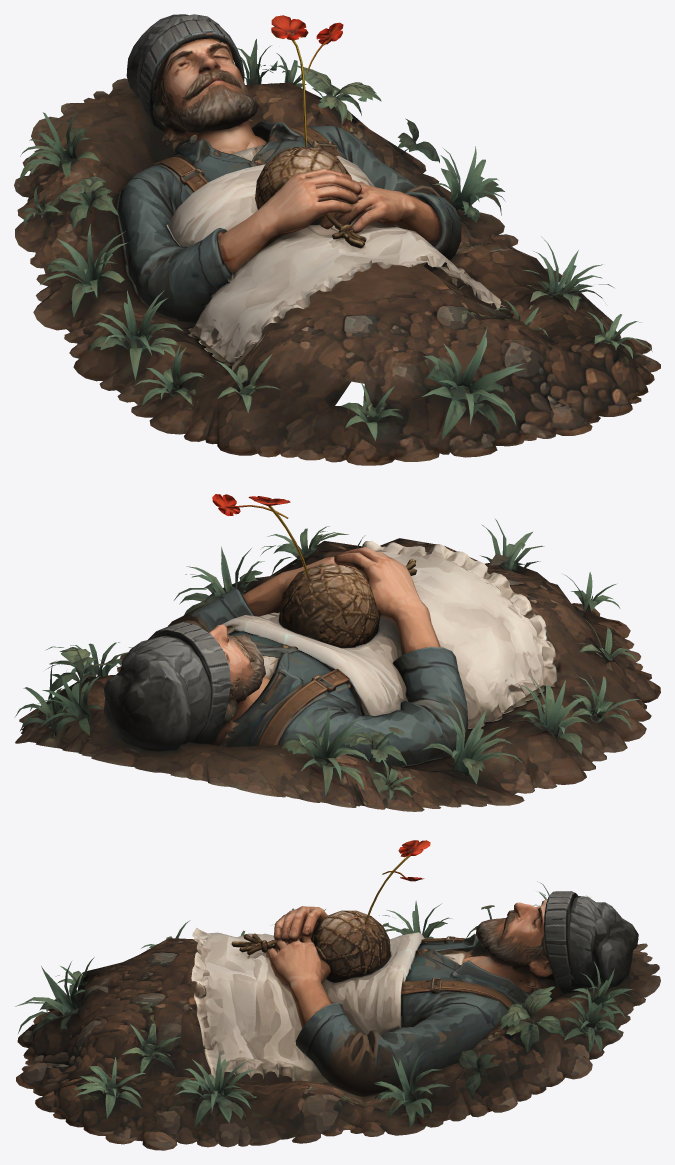
The model's file is act1-a20-3-sleeper-fisherman.glb.
3 views of the same model, one above another, from view 1: azimuth 30°, elevation 25°; view 2: azimuth 150°, elevation 25°; view 3: azimuth 270°, elevation 25° (orthographic). The views are drawn at different scales.
Visible parts, largest first — view 1: act1-a20-3-sleeper-fisherman; view 2: act1-a20-3-sleeper-fisherman; view 3: act1-a20-3-sleeper-fisherman.
Boxes of the visible parts, left/top/right/bottom form: act1-a20-3-sleeper-fisherman: left=14, top=14, right=660, bottom=465; act1-a20-3-sleeper-fisherman: left=15, top=494, right=660, bottom=811; act1-a20-3-sleeper-fisherman: left=15, top=840, right=660, bottom=1150.
Size of the model in its own units: 1.51 by 0.7897 by 2.1.
1 material, 1 textured.
